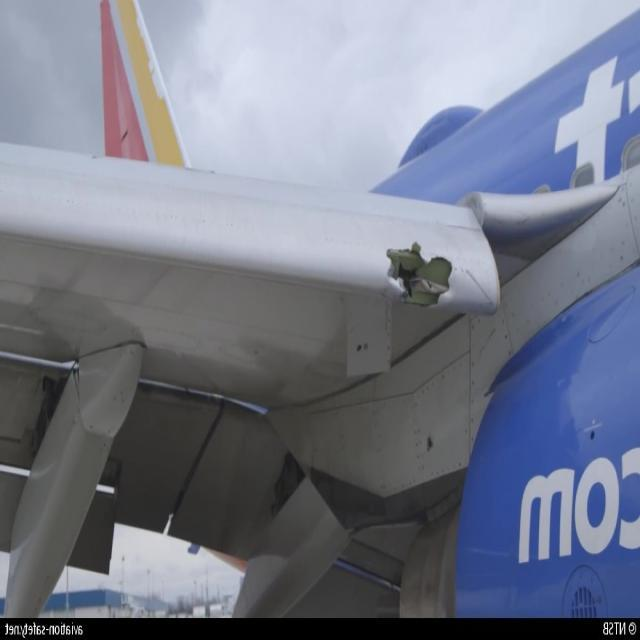crack: (386, 240, 459, 316)
